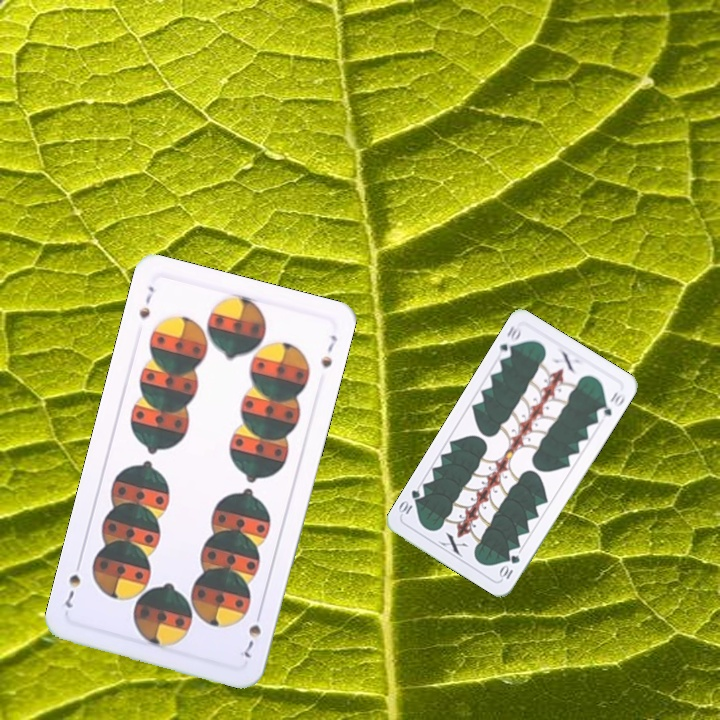G10: (495, 322, 525, 362), (496, 551, 523, 582)
S7: (240, 606, 265, 661), (135, 282, 157, 321)
